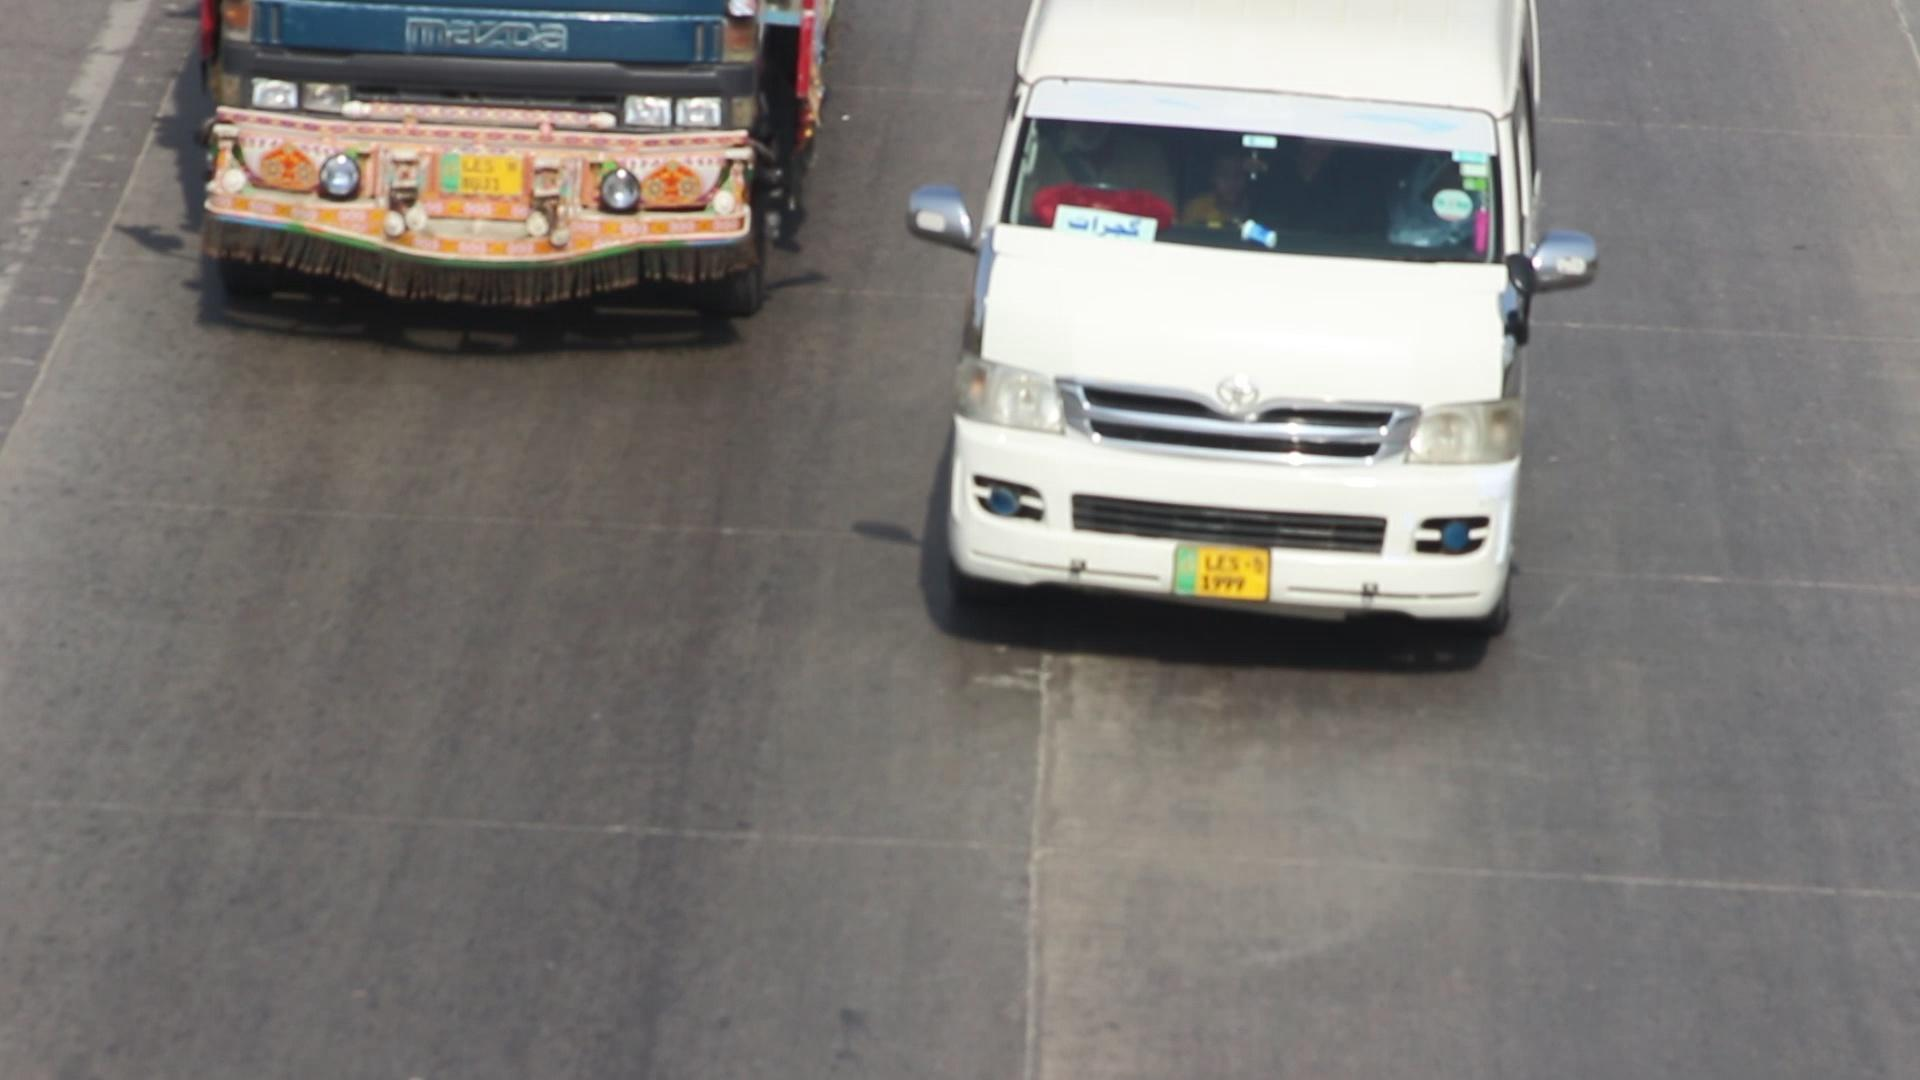windshield: (990, 63, 1520, 293)
